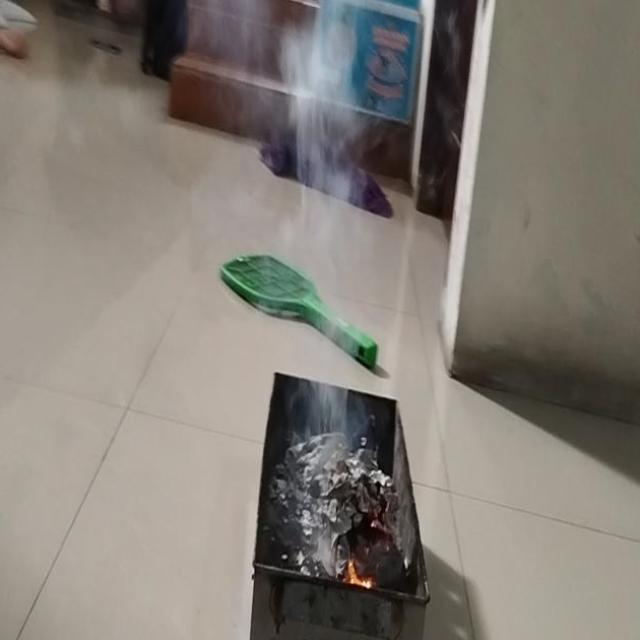fire: (284, 17, 371, 450)
smoke: (341, 554, 376, 596)
